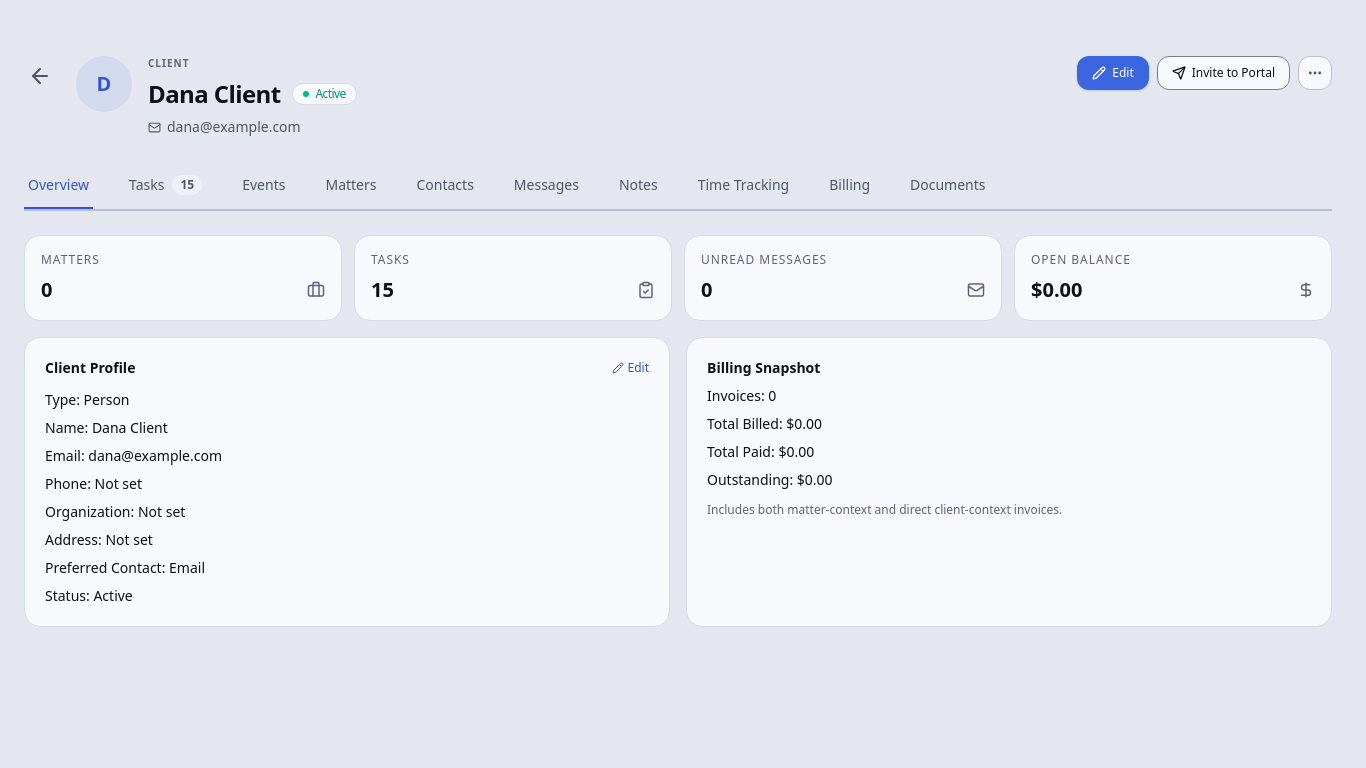
filtering the task list by status › asks the server for the chosen status and shows matches from every page
Expected: the heading "Dana Client Active" is shown, left=148, top=77, right=357, bottom=110
Click the 1st button "Tasks 15" at (166, 186), box left=125, top=163, right=206, bottom=209
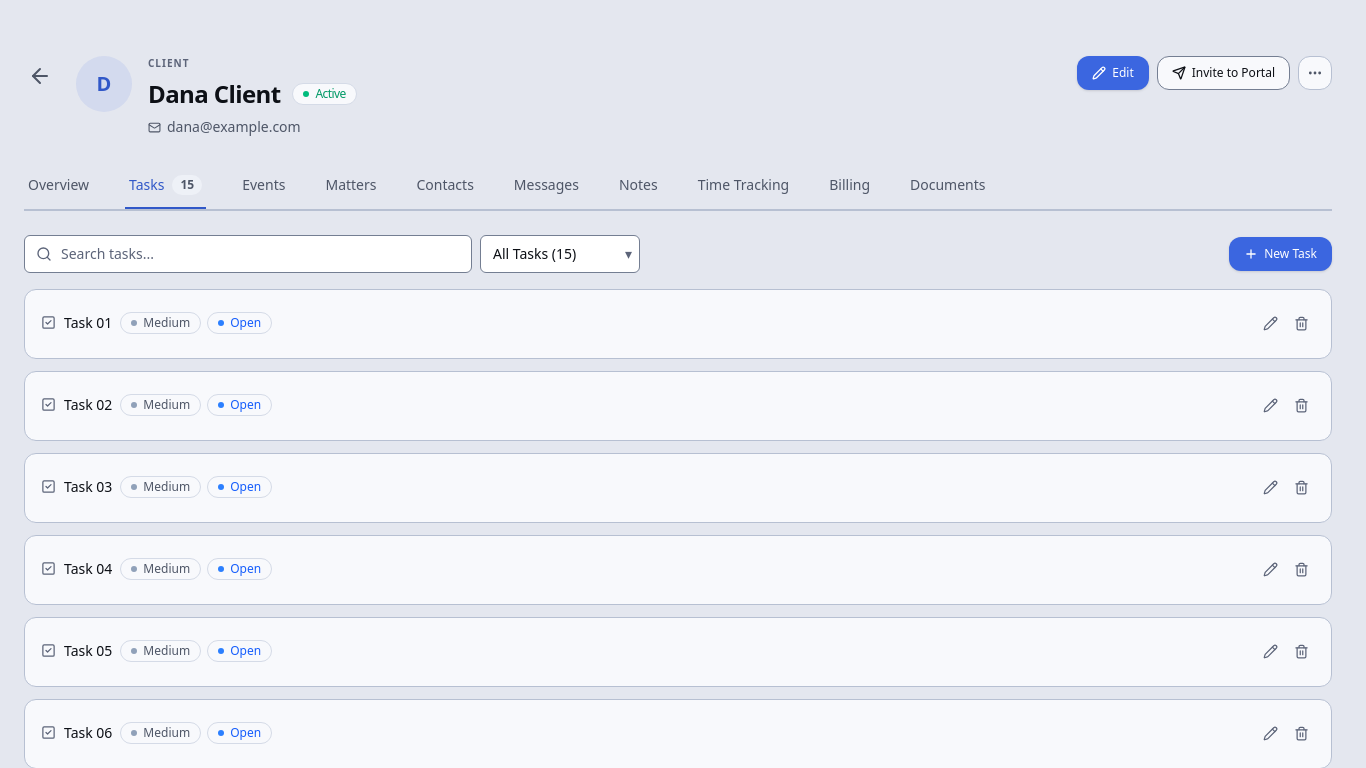
Expected: the text "Task 01" is shown, left=41, top=313, right=112, bottom=333
Click the button "All Tasks (15) ▾" at (560, 254), box left=480, top=235, right=640, bottom=273
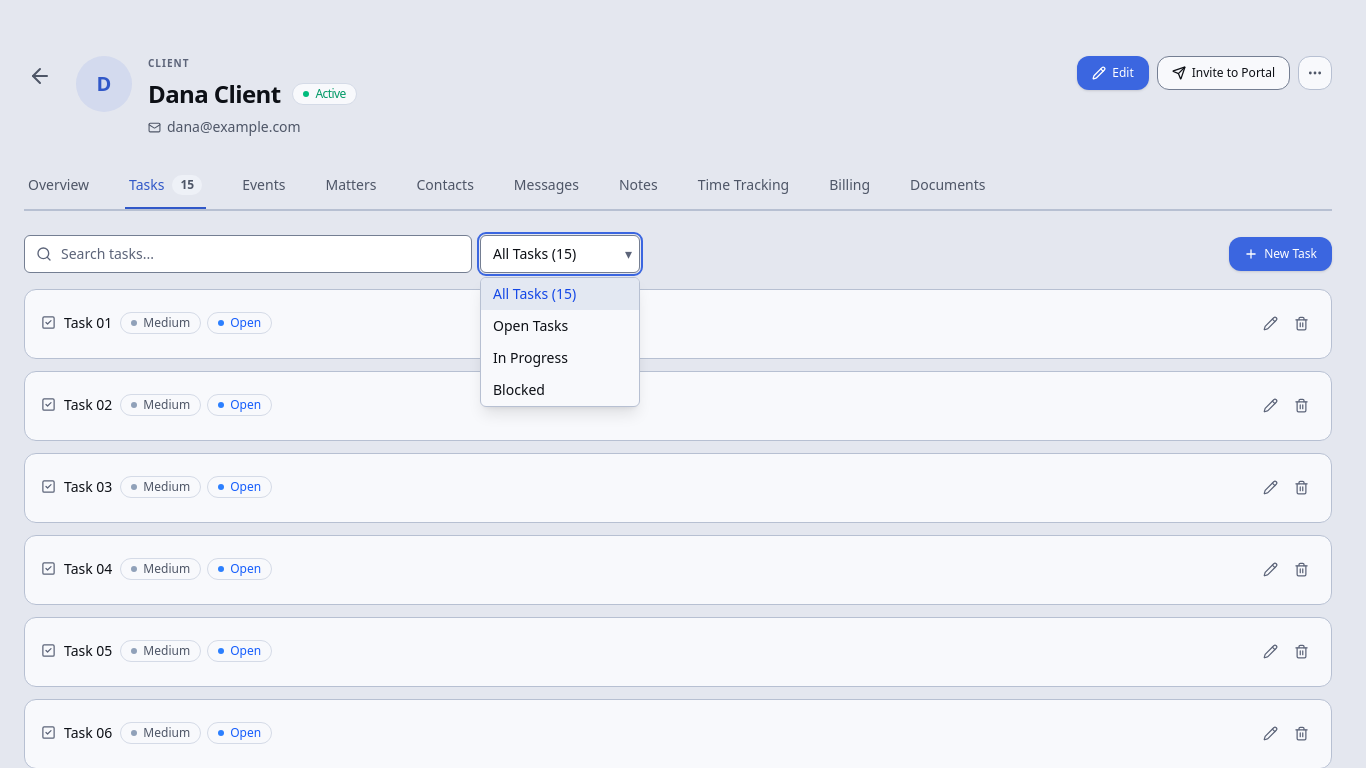
Click the option "Blocked" at (519, 389), box left=493, top=380, right=545, bottom=399
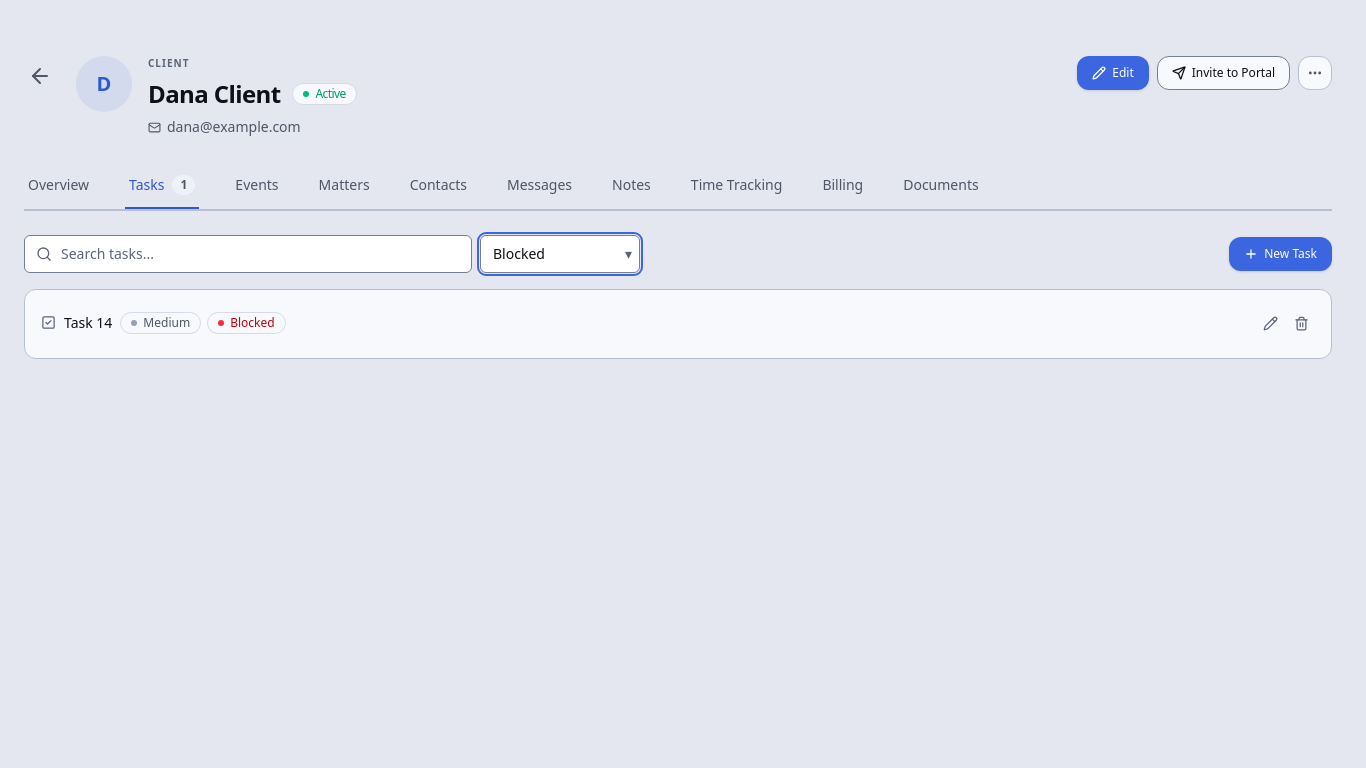
Expected: the text "Task 14" is shown, left=41, top=313, right=112, bottom=333
Expected: the text "Task 01" is gone
